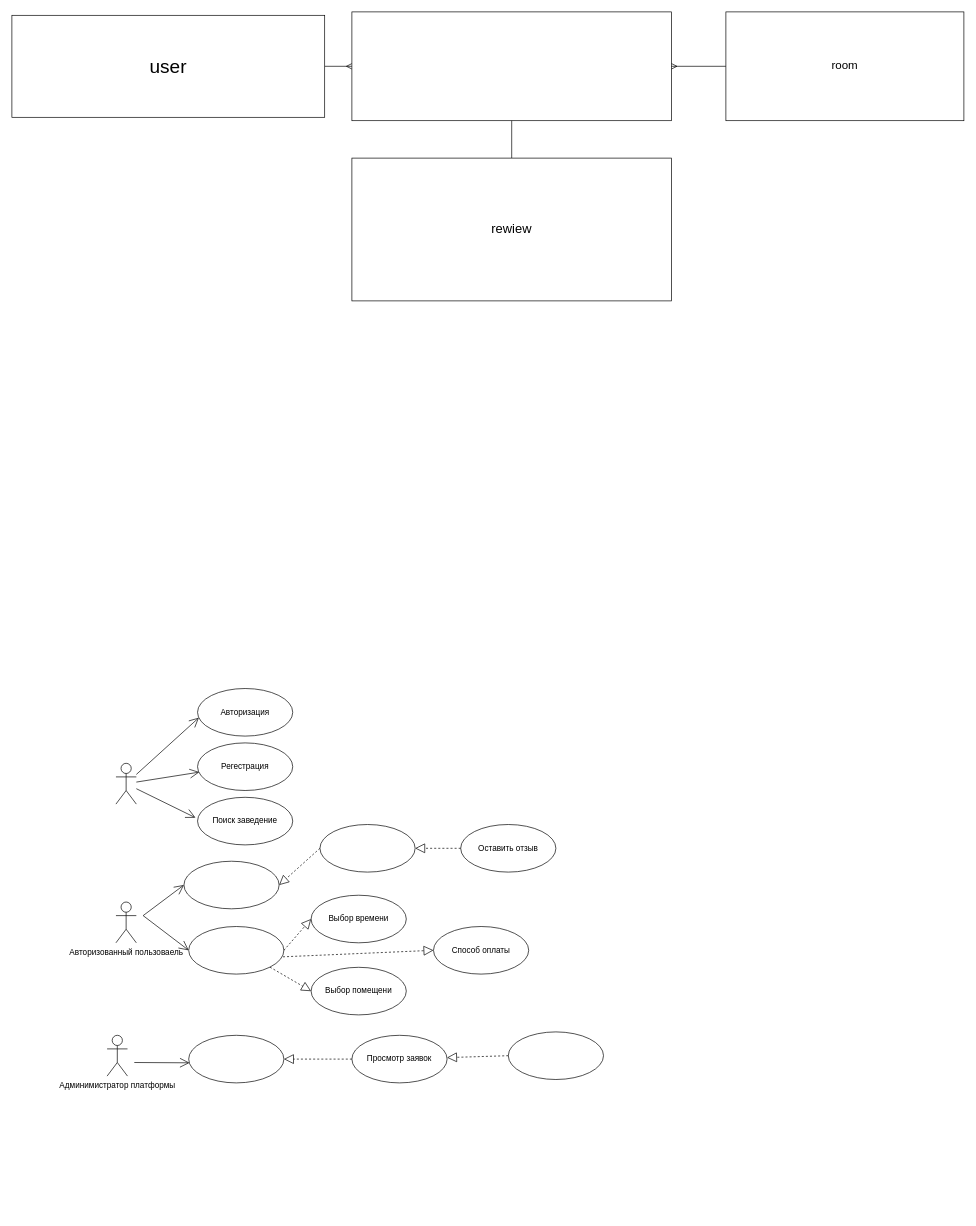
This 976x1226 diagram has some shape labels left out. The shapes that lost their labels are listed below. From the top down, each one's centre as x and y in pixels, then its label:
At pixel 511 66: "booking".
At pixel 125 783: "Неавторизованный Пользователь".
At pixel 367 848: "Просмотр историю заявок".
At pixel 231 885: "Вход в личный каб.".
At pixel 236 950: "Бронь банкета".
At pixel 236 1059: "Авторизация в панели администратора".
At pixel 556 1055: "Изменить статус заявок".
